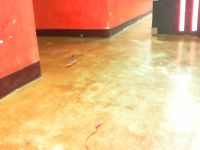switch: (192, 1, 199, 30), (179, 1, 185, 31)
